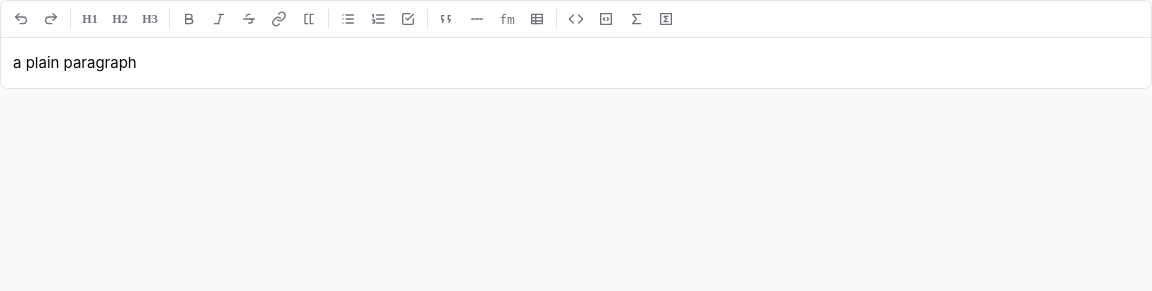
Test case: right-click in the canvas opens the Stylo menu and suppresses the native one
Right-click the field labelled "a plain paragraph" at (75, 62), box [13, 53, 137, 72]
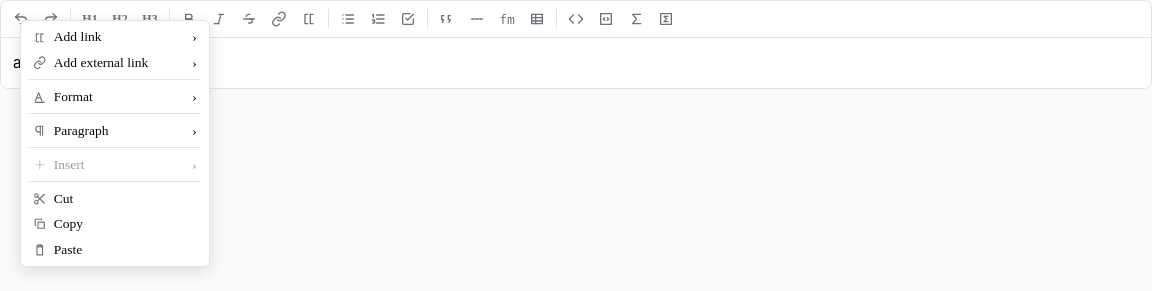
Expected: the element with class "cm-inplace-menu-panel" is shown, [20, 20, 210, 267]
